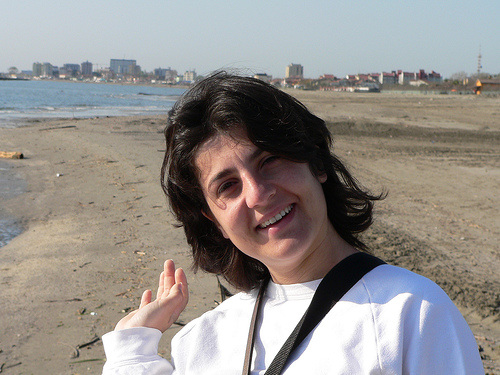without_mask: (175, 115, 338, 271)
